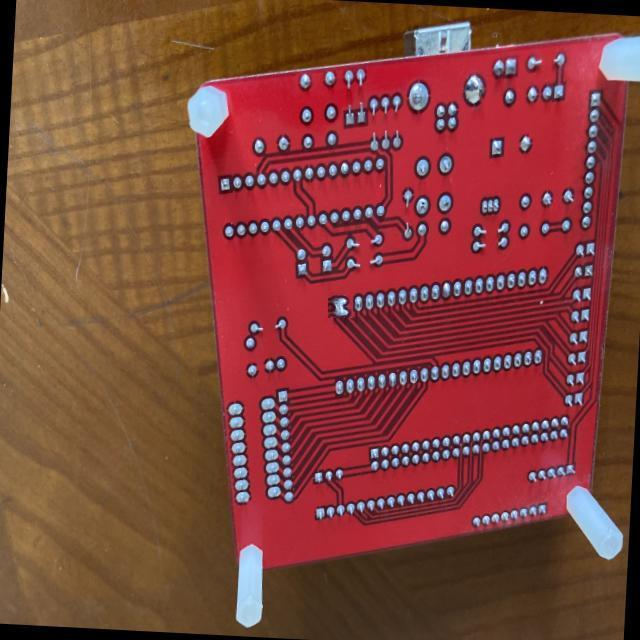damged: (328, 293, 353, 318)
